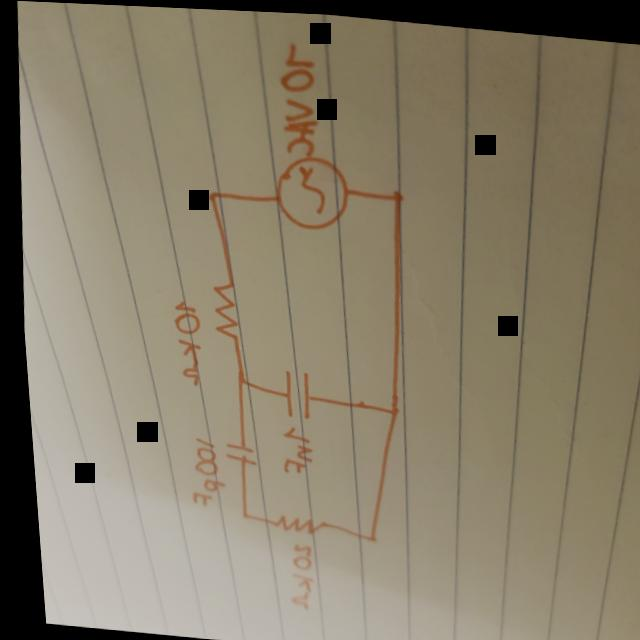capacitor: (269, 361, 313, 424), (212, 435, 258, 472)
junction: (197, 184, 225, 210), (381, 182, 409, 205), (226, 369, 246, 393), (354, 522, 374, 544), (377, 400, 400, 417), (228, 504, 245, 524)
resistor: (199, 273, 244, 343), (266, 508, 316, 536)
source: (267, 146, 350, 232)
text: (270, 36, 321, 157), (175, 434, 224, 512), (161, 297, 201, 387), (274, 535, 313, 613), (270, 422, 309, 473)
